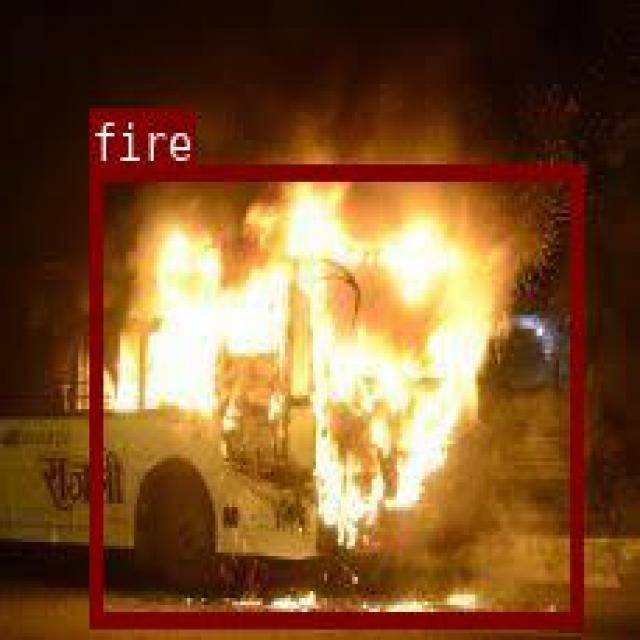fire: (89, 161, 579, 624)
